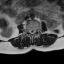CCS_normal: (31, 28, 33, 36)
LFS_normal: (35, 28, 38, 34)
LLS_normal: (33, 28, 35, 35)
RFS_normal: (27, 27, 29, 34)
RLS_normal: (29, 28, 31, 35)
